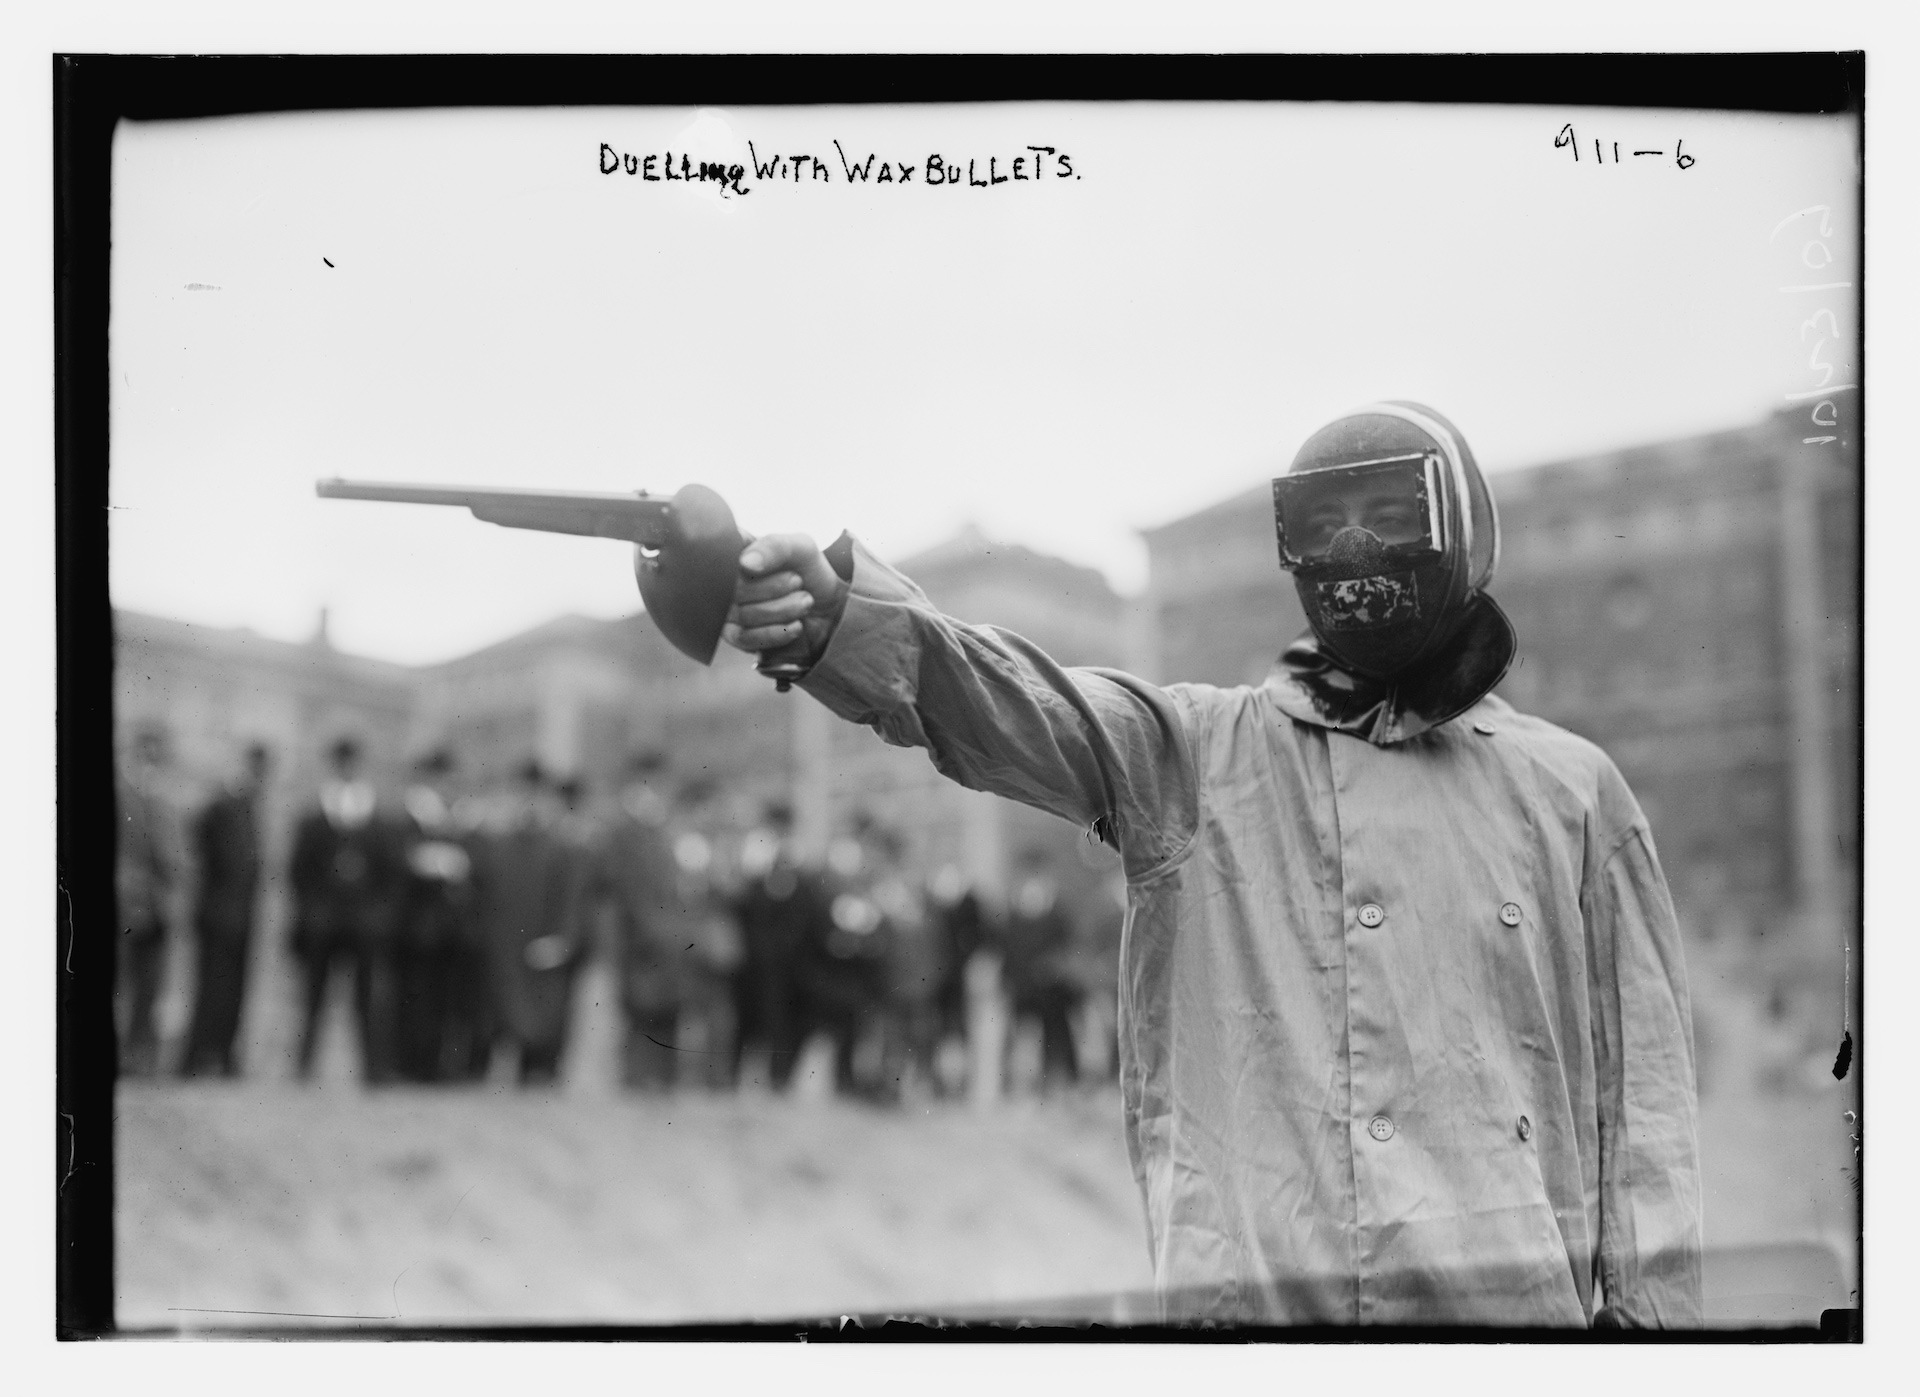pistol: (313, 470, 830, 681)
